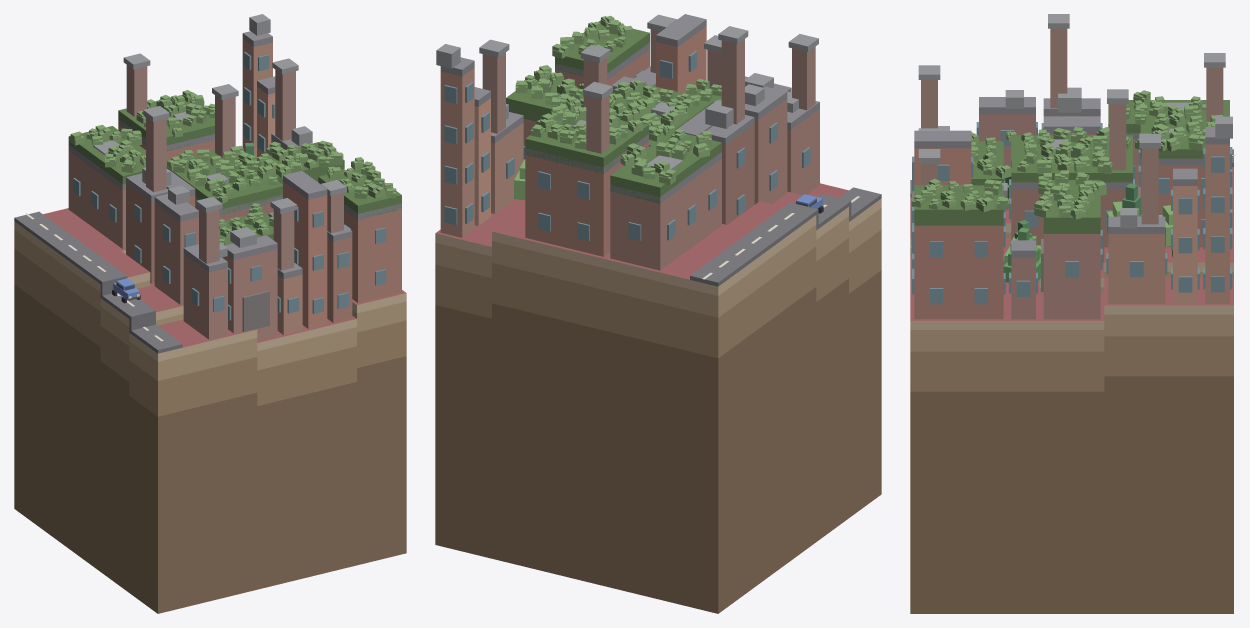
Rendered from block_26_greenroof_75.glb.
The picture shows the model from 3 angles, left to right: view 1: azimuth 30°, elevation 25°; view 2: azimuth 150°, elevation 25°; view 3: azimuth 270°, elevation 25°; orthographic projection. The views are drawn at different scales.
Parts seen in each view (by area): view 1: Patch_UpperRight_b26_GR, Factories_UpperRight_b26_GR, GR_Roof_Factories_UpperRight_b26_GR, Roads_UpperRight_b26_GR; view 2: Patch_UpperRight_b26_GR, Factories_UpperRight_b26_GR, GR_Roof_Factories_UpperRight_b26_GR, Roads_UpperRight_b26_GR; view 3: Patch_UpperRight_b26_GR, Factories_UpperRight_b26_GR, GR_Roof_Factories_UpperRight_b26_GR, FTree_13_GR.
Part boxes in pixels (bbox=[...]): Patch_UpperRight_b26_GR: bbox=[14, 208, 406, 613]; Factories_UpperRight_b26_GR: bbox=[68, 14, 401, 341]; GR_Roof_Factories_UpperRight_b26_GR: bbox=[68, 95, 401, 245]; Roads_UpperRight_b26_GR: bbox=[14, 211, 182, 353]; Patch_UpperRight_b26_GR: bbox=[435, 183, 881, 613]; Factories_UpperRight_b26_GR: bbox=[436, 14, 819, 270]; GR_Roof_Factories_UpperRight_b26_GR: bbox=[506, 20, 721, 203]; Roads_UpperRight_b26_GR: bbox=[690, 187, 881, 286]; Patch_UpperRight_b26_GR: bbox=[910, 167, 1233, 613]; Factories_UpperRight_b26_GR: bbox=[911, 14, 1232, 319]; GR_Roof_Factories_UpperRight_b26_GR: bbox=[914, 100, 1229, 233]; FTree_13_GR: bbox=[1003, 227, 1040, 282].
Size of the model in its own units: 9.55 by 16.01 by 9.55.
